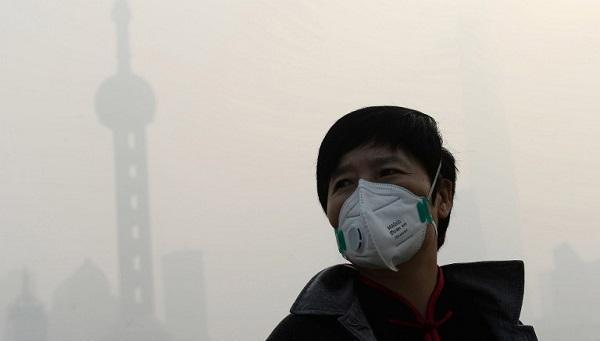face_mask: (330, 138, 430, 270)
